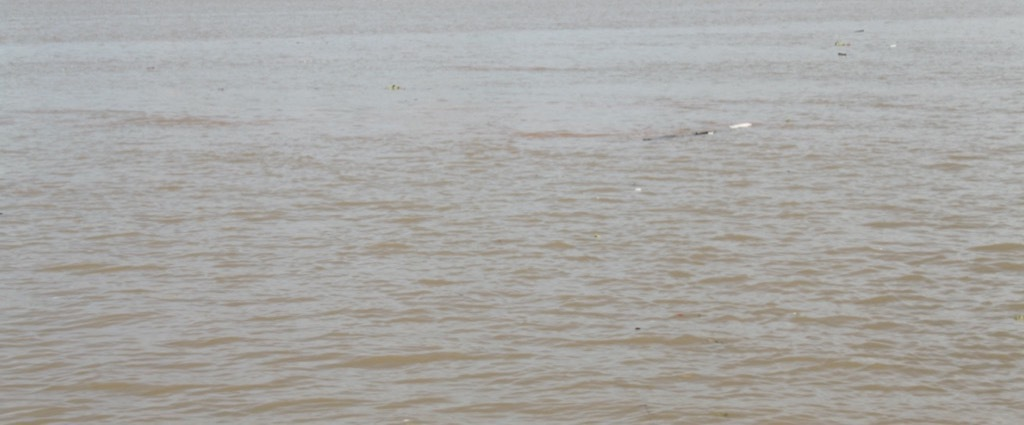organic: (635, 112, 714, 148), (822, 36, 864, 52), (385, 78, 412, 95), (830, 45, 850, 61), (717, 405, 735, 422), (850, 22, 868, 37), (630, 320, 645, 335)
plastic: (614, 176, 660, 206), (715, 112, 762, 140), (878, 33, 916, 65)
